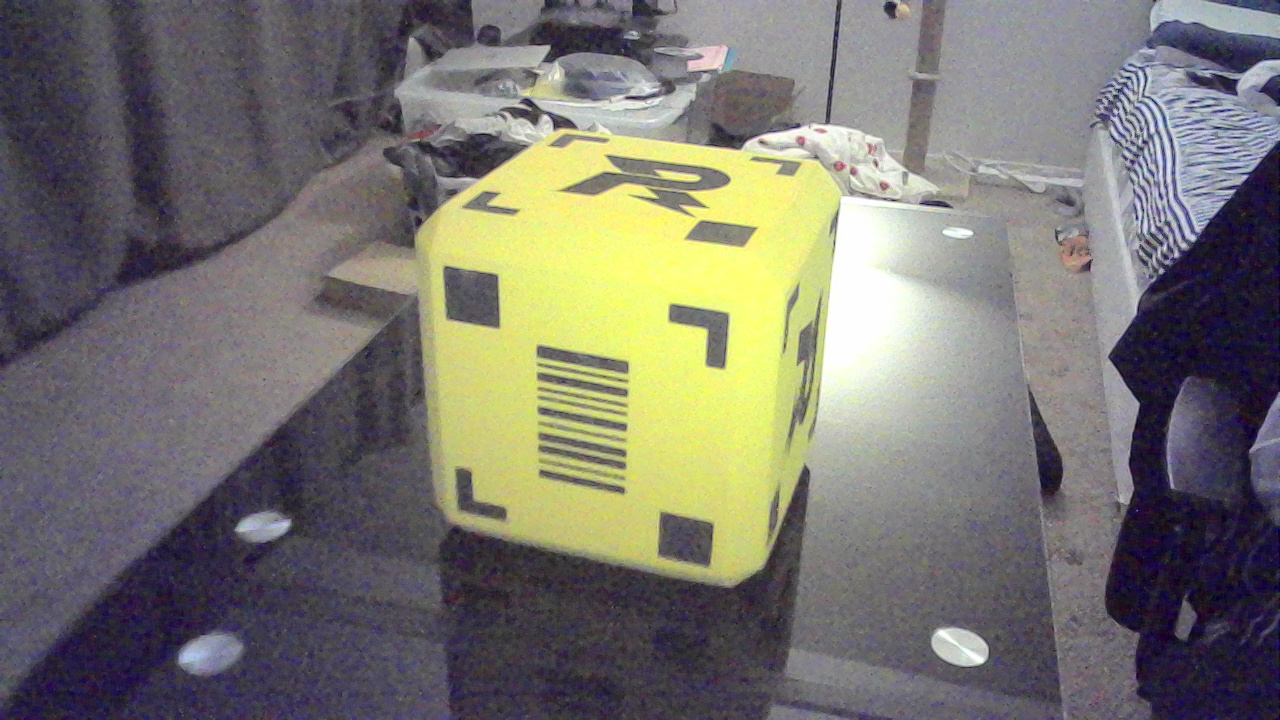Barcode: (536, 352, 640, 504)
R: (577, 151, 741, 222), (790, 319, 829, 476)
